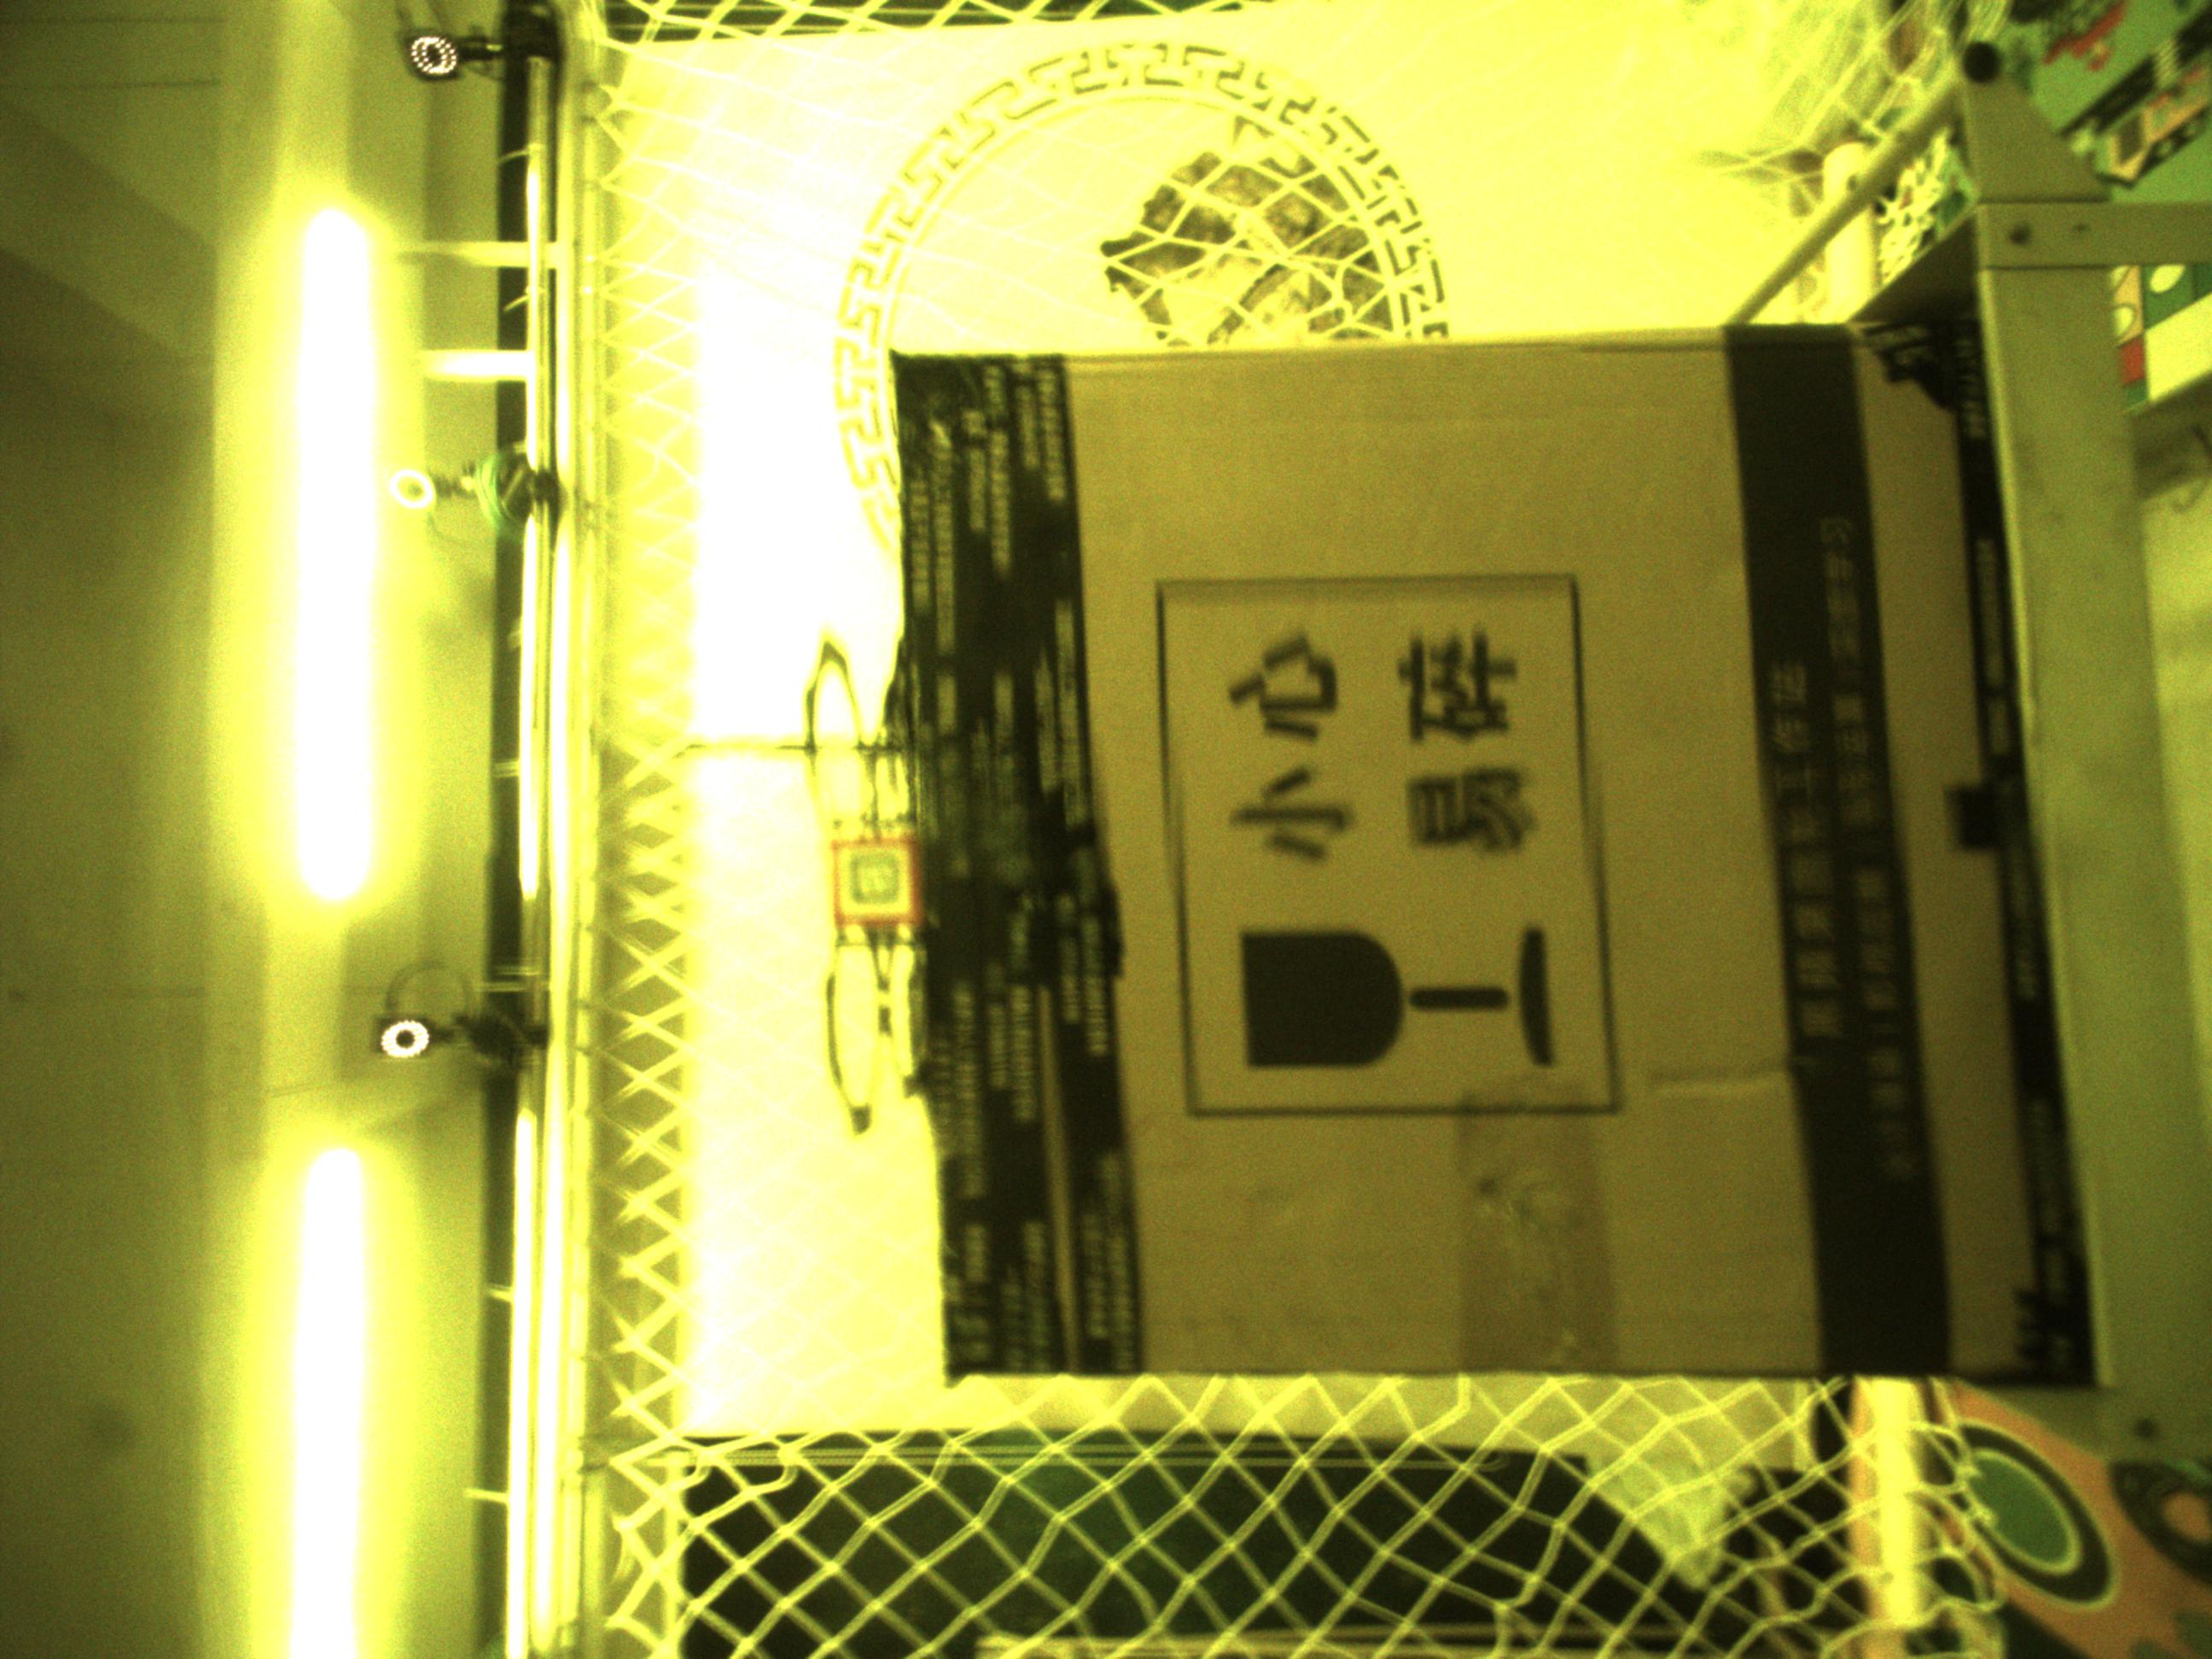outline: (833, 838, 921, 927)
